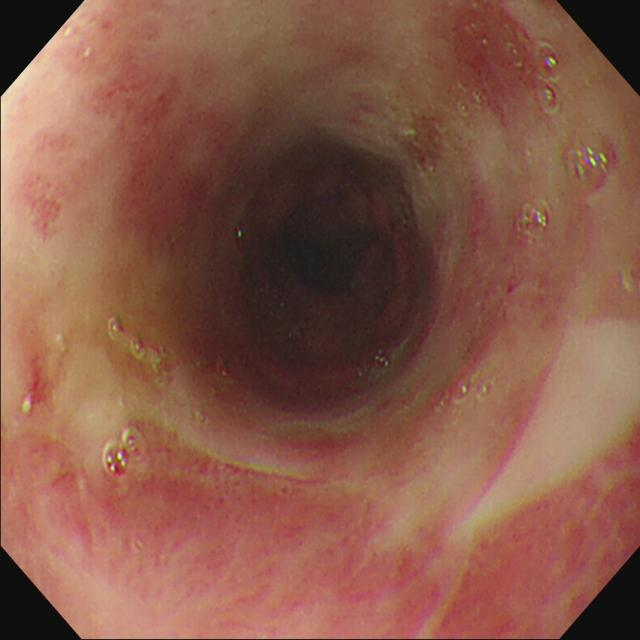A: (4, 424, 333, 637), (391, 427, 640, 638), (94, 47, 218, 267), (449, 191, 520, 365), (444, 2, 532, 132), (18, 139, 77, 251), (19, 354, 51, 410)
T: (537, 41, 565, 116), (103, 429, 145, 475)
